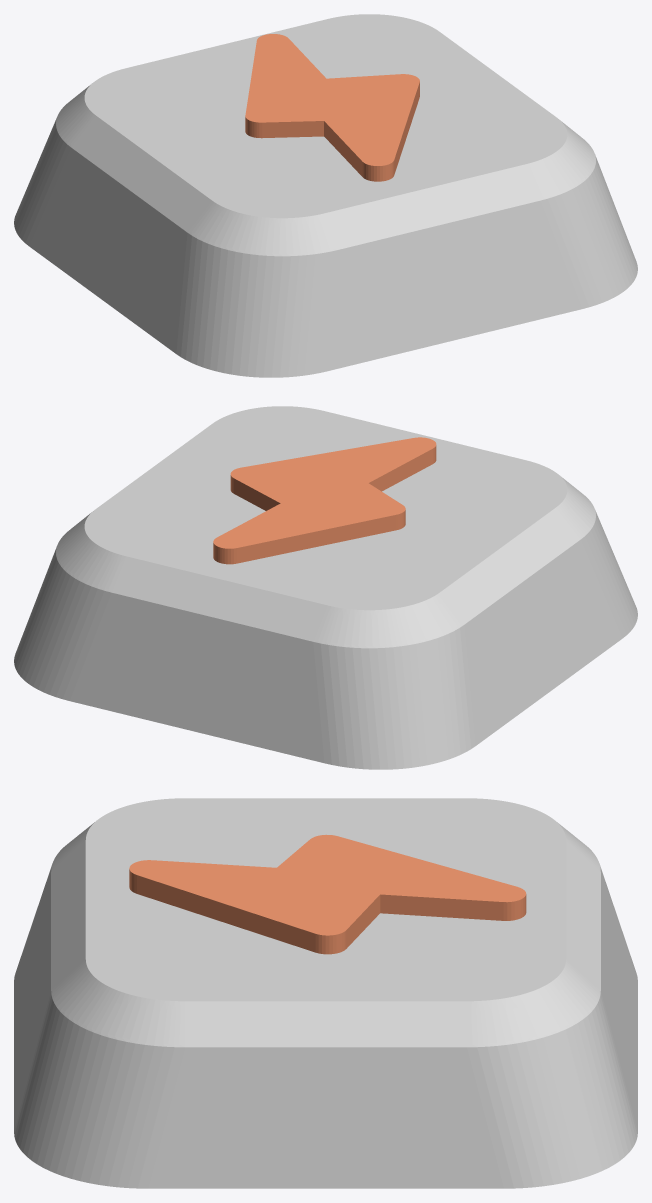
Rendered from cap-lightning.glb.
3 views of the same model, one above another, from view 1: azimuth 30°, elevation 25°; view 2: azimuth 150°, elevation 25°; view 3: azimuth 270°, elevation 25° (orthographic). The views are drawn at different scales.
Visible parts, largest first — view 1: cap_0, glyph_1; view 2: cap_0, glyph_1; view 3: cap_0, glyph_1.
Part boxes in pixels (bbox=[...]): cap_0: bbox=[14, 14, 637, 377]; glyph_1: bbox=[245, 34, 419, 181]; cap_0: bbox=[14, 406, 637, 769]; glyph_1: bbox=[213, 437, 436, 564]; cap_0: bbox=[14, 798, 637, 1188]; glyph_1: bbox=[129, 834, 526, 954].
Bounding box in the file's own units: 18 × 5.6 × 18.
